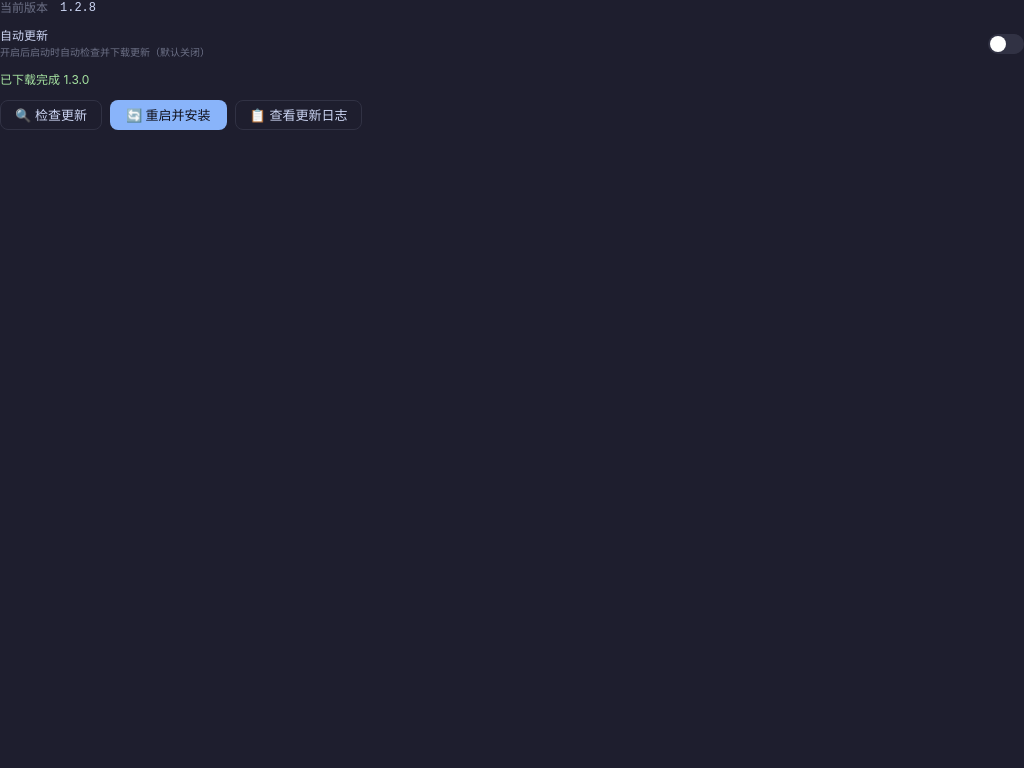
§312 重启安装那发：失败是返回值，就得把原因说出来 › 兜底话术：信封没带 error ⇒ 说「安装失败」，不许留空
The image size is (1024, 768).
Click the button "🔄 重启并安装" at (168,115), box [110,100,227,130]
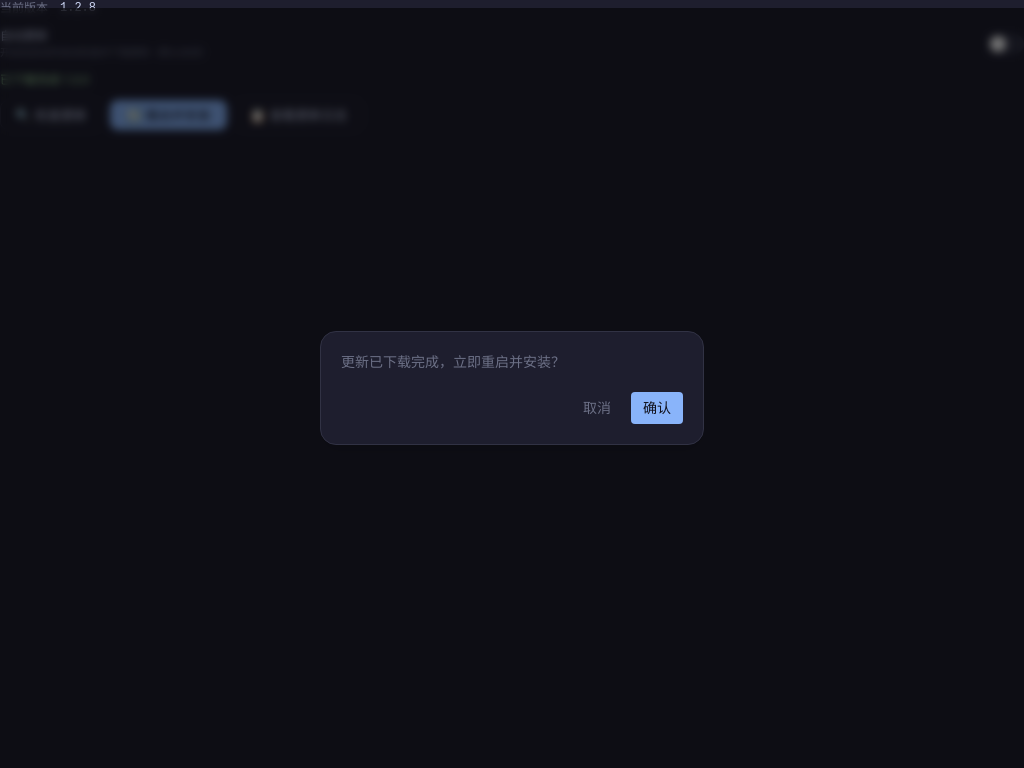
Click the button "确认" at (657,408), box [631,392,683,424]
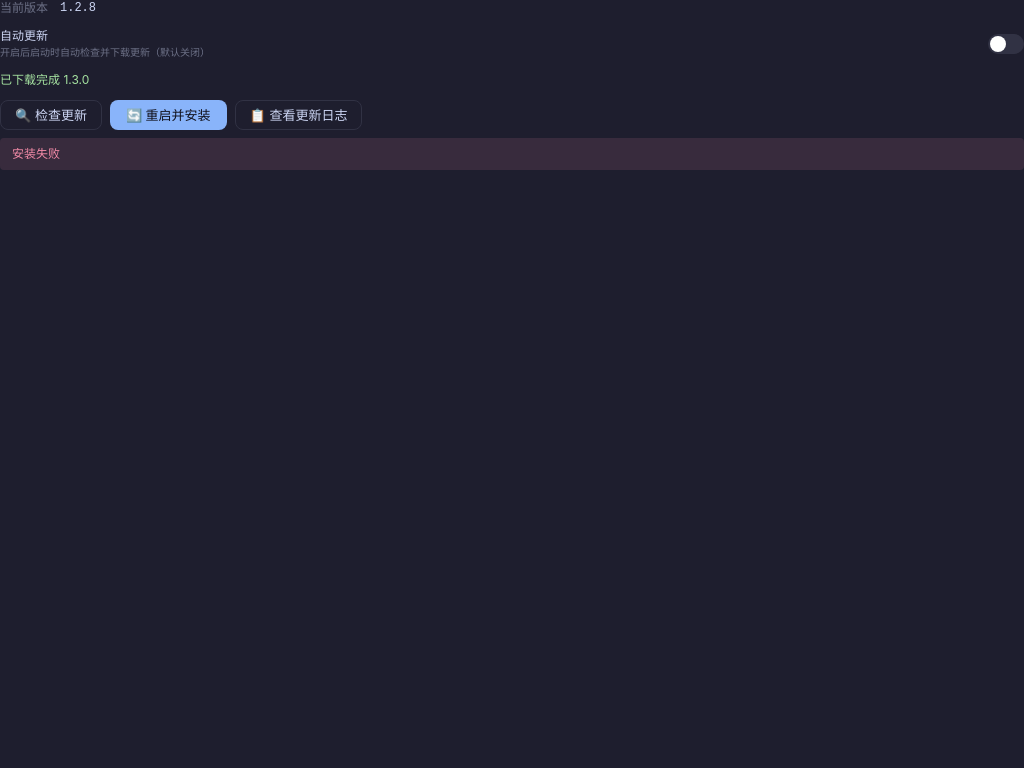
Expected: the text "安装失败" is shown, [0,138,1023,170]
